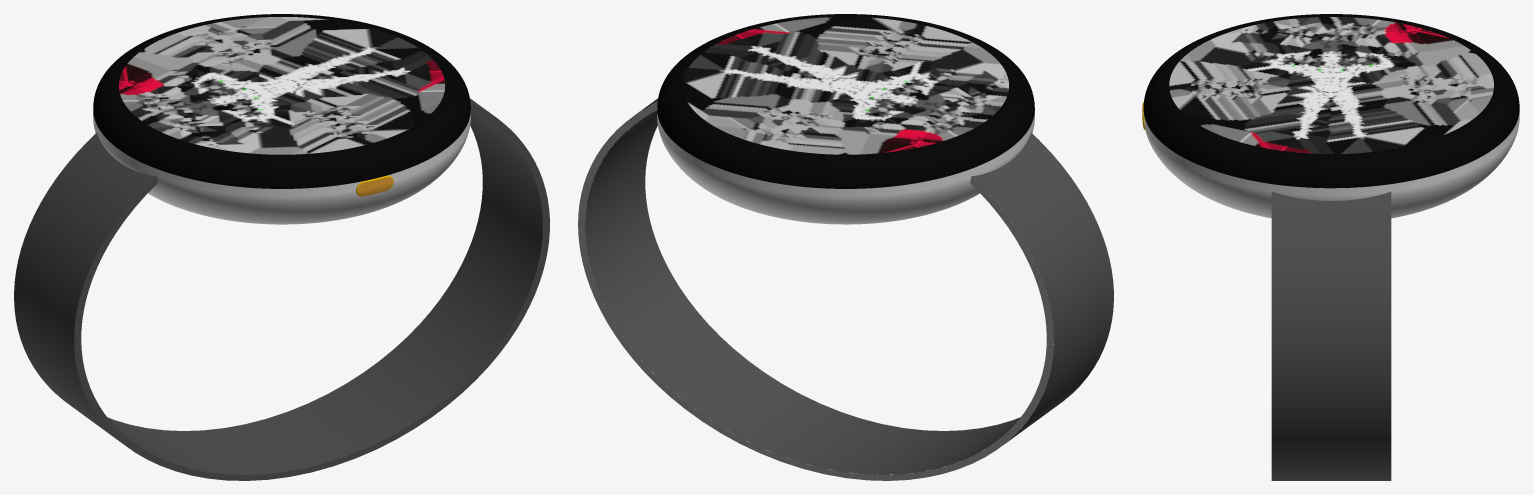
Rendered from hub.glb.
The picture shows the model from 3 angles, left to right: view 1: azimuth 30°, elevation 25°; view 2: azimuth 150°, elevation 25°; view 3: azimuth 270°, elevation 25°; orthographic projection.
Bounding box in the file's own units: 0.064 × 0.0468 × 0.0441.
Materials: 9 (1 with a texture image).
